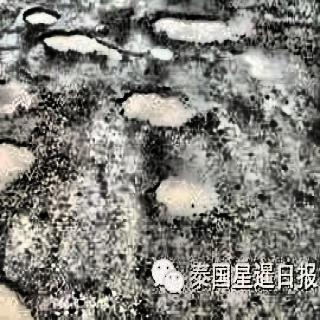pothole: (144, 161, 244, 227), (144, 10, 250, 52), (109, 84, 198, 128), (23, 5, 55, 29)
